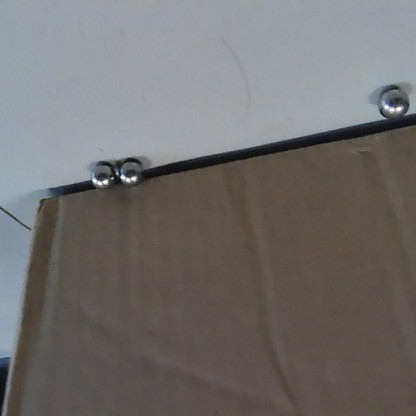ironball: (373, 82, 412, 120), (113, 153, 148, 189), (89, 158, 115, 187)
